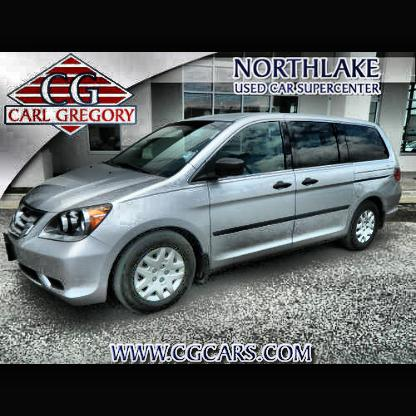Honda Odyssey Minivan 2007: (2, 111, 406, 319)
